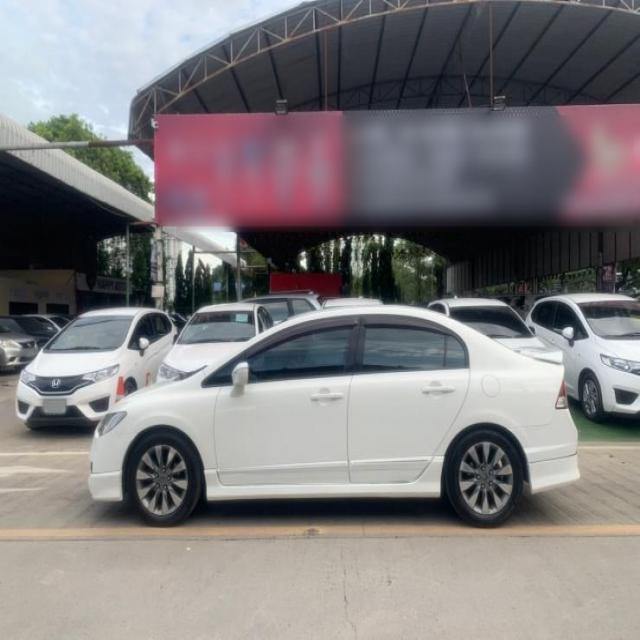back_left_door: (346, 315, 470, 485)
back_left_light: (556, 372, 572, 410)
front_left_door: (214, 315, 360, 488)
front_left_light: (95, 411, 129, 436)
left_mirror: (230, 361, 249, 391)
wheel: (126, 432, 524, 532)
